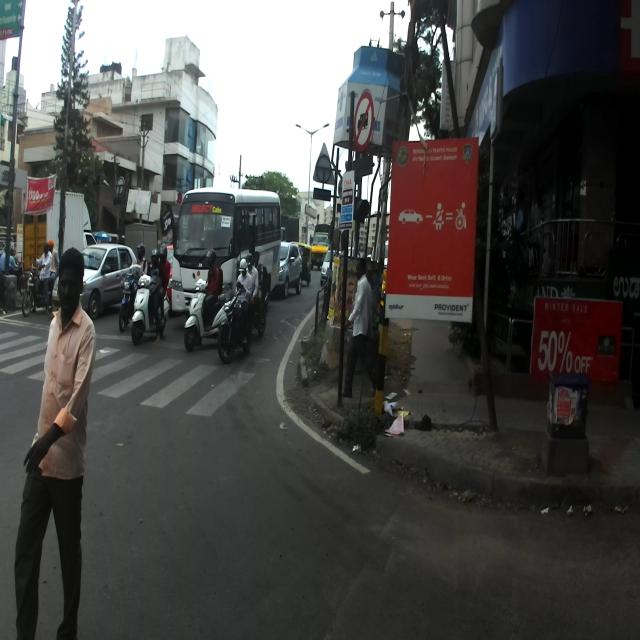motorcycle ahead at: (218, 289, 251, 356), (127, 273, 154, 340)
person ahead at: (24, 249, 96, 640)
sign board ahead at: (352, 89, 377, 149)
